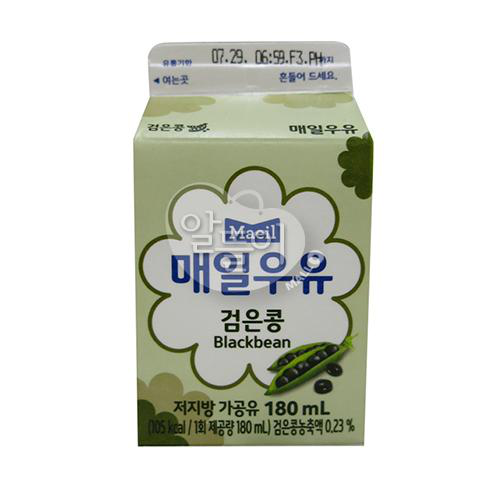milk: (133, 43, 375, 453)
